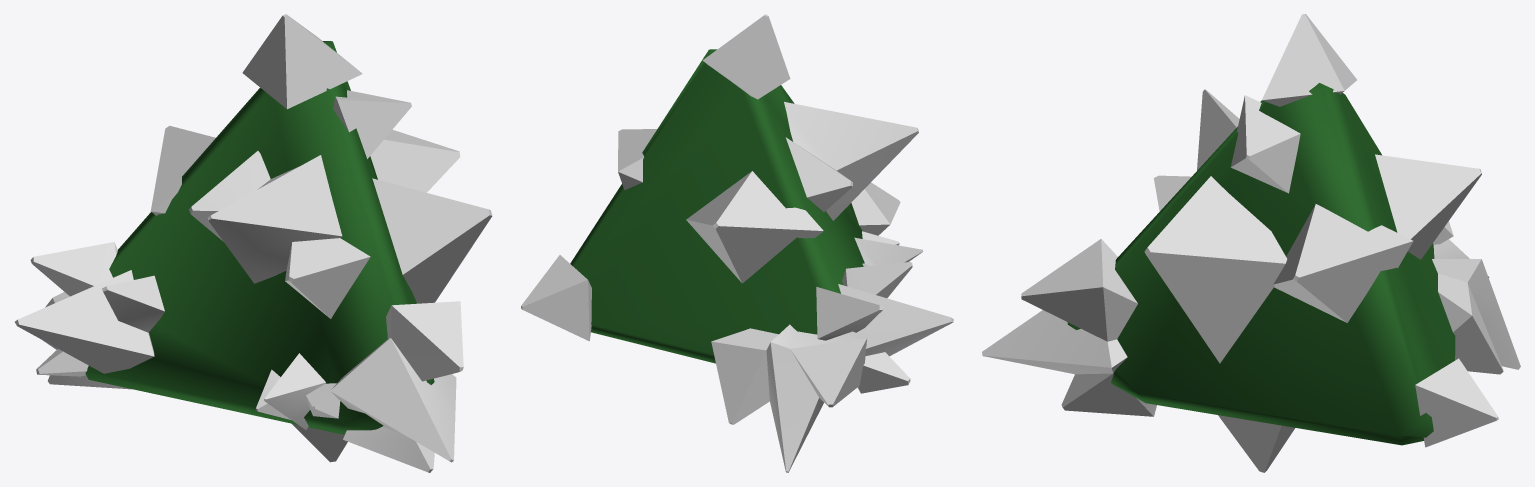
Rendered from obj_voxelmaterialchunk_t4small.fbx.
3 renders of one model, left to right at view 1: azimuth 30°, elevation 25°; view 2: azimuth 150°, elevation 25°; view 3: azimuth 270°, elevation 25°, orthographic. The views are drawn at different scales.
Parts seen in each view (by area): view 1: t4_large_clutter.003, t4_large.003; view 2: t4_large_clutter.003, t4_large.003; view 3: t4_large_clutter.003, t4_large.003.
Part boxes in pixels (left/top/right/bottom): t4_large_clutter.003: left=15, top=14, right=492, bottom=472; t4_large.003: left=85, top=41, right=434, bottom=434; t4_large_clutter.003: left=521, top=14, right=953, bottom=472; t4_large.003: left=570, top=49, right=864, bottom=363; t4_large_clutter.003: left=982, top=14, right=1520, bottom=472; t4_large.003: left=1067, top=83, right=1455, bottom=445.
Bounding box in the file's own units: 6.11 × 5.99 × 6.59.
